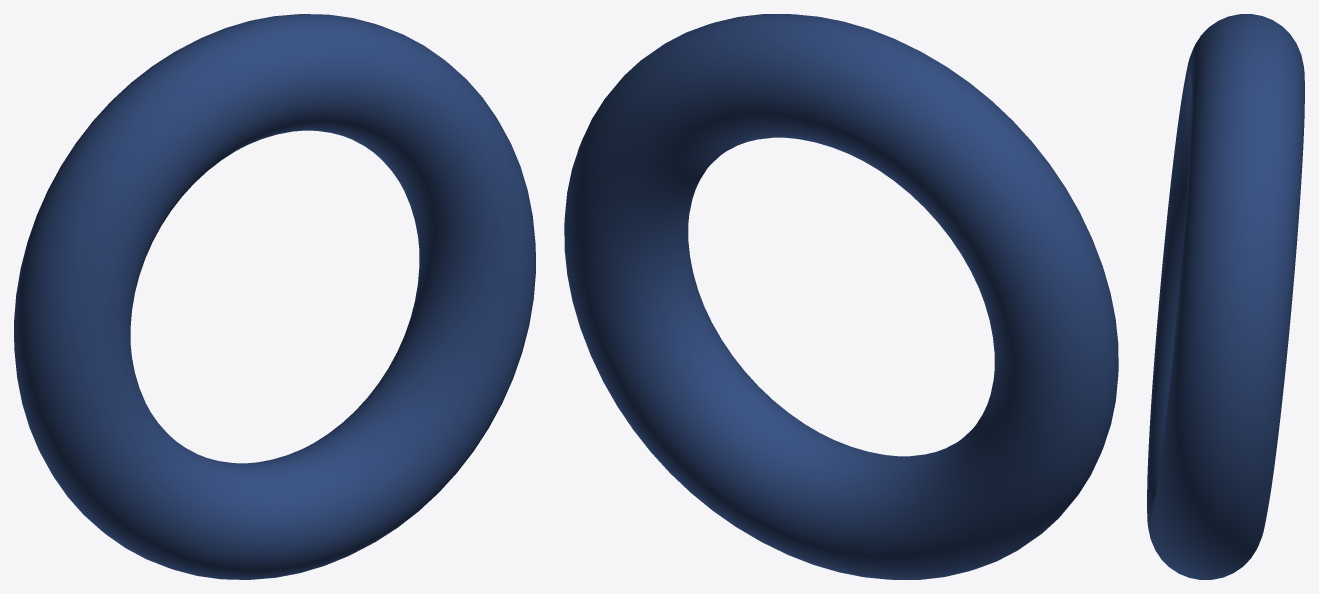
3 renders of one model, left to right at view 1: azimuth 30°, elevation 25°; view 2: azimuth 150°, elevation 25°; view 3: azimuth 270°, elevation 25°, orthographic. The views are drawn at different scales.
Visible parts, largest first — view 1: node_id7; view 2: node_id7; view 3: node_id7.
Part boxes in pixels (x1,y1,x2,y2): node_id7: [14, 14, 535, 579]; node_id7: [564, 14, 1118, 579]; node_id7: [1147, 14, 1304, 579].
Size of the model in its own units: 0.512 by 0.5095 by 0.1421.
